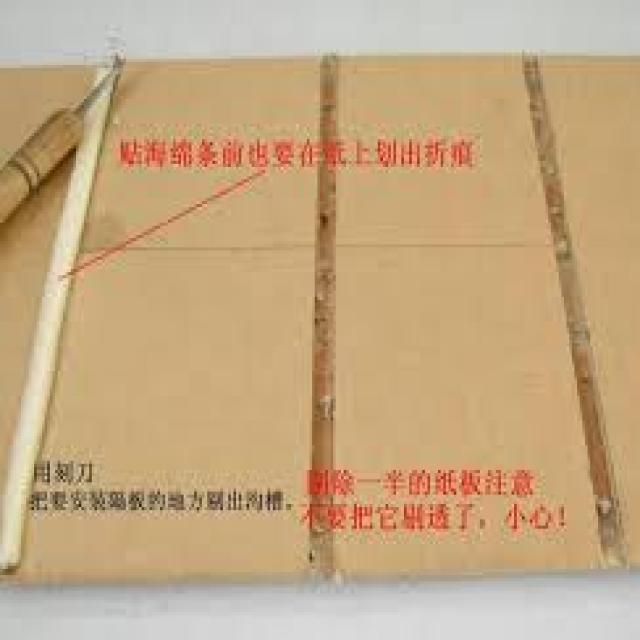Cardboard: (0, 57, 640, 572)
